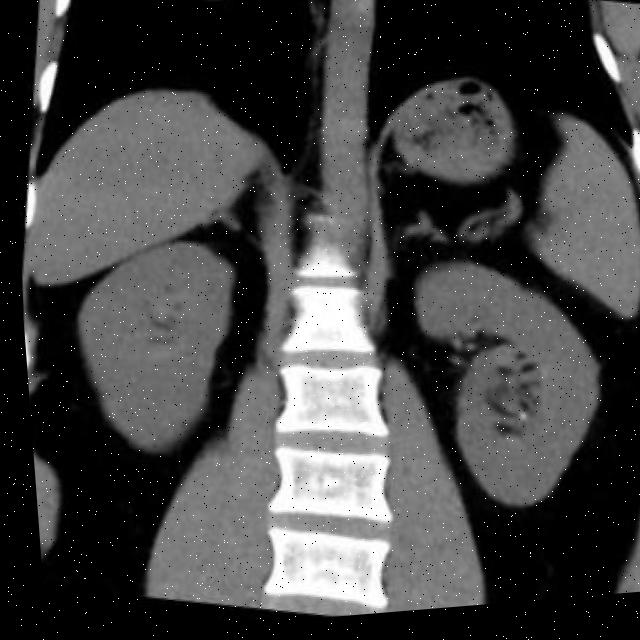Tas_Var: (509, 417, 524, 430)
